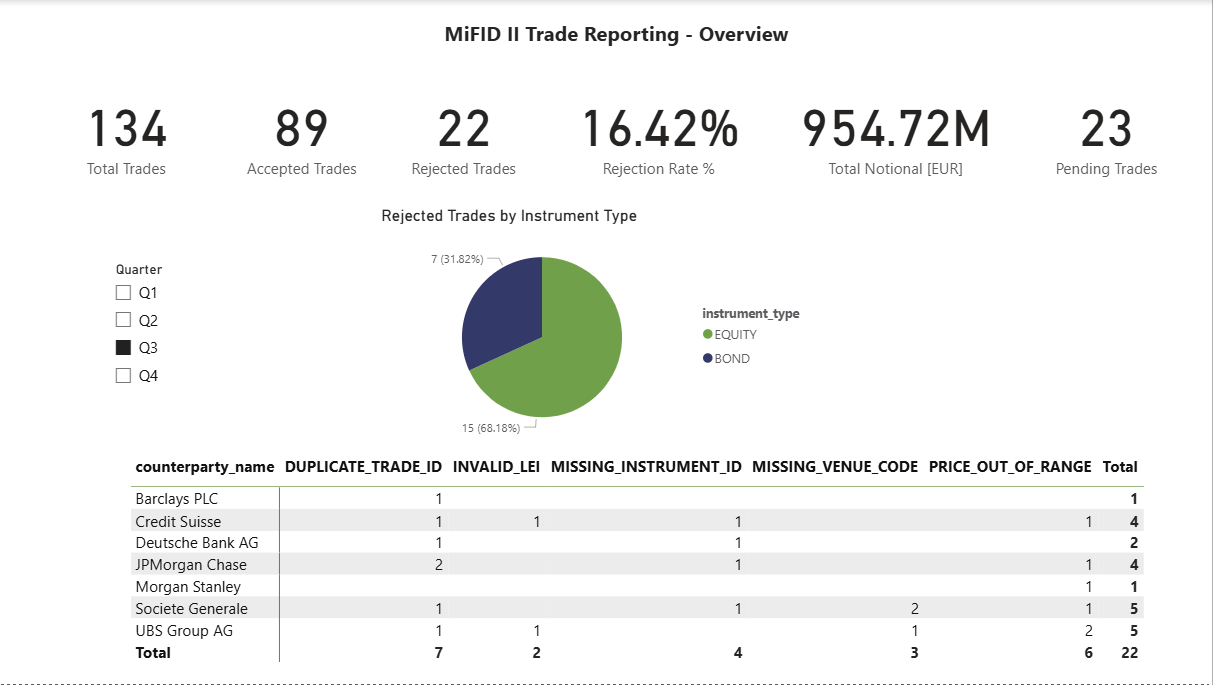

The page's visual inventory and layout, read from the dashboard file:
{"tool":"powerbi","page":{"name":"Rejection Analysis","canvas":[1280,720],"ordinal":1},"visuals":[{"type":"card","fields":{"Values":["synthetic_trades.Total Trades"]},"box":[41.1,67.9,189.5,140.5],"z":0},{"type":"card","fields":{"Values":["synthetic_trades.Accepted Trades"]},"box":[230.5,67.9,180,140.5],"z":1000},{"type":"card","fields":{"Values":["synthetic_trades.Rejected Trades"]},"box":[410.5,67.9,161.1,140.5],"z":2000},{"type":"card","fields":{"Values":["synthetic_trades.Rejection Rate %"]},"box":[571.6,67.9,249.5,140.5],"z":3000},{"type":"card","fields":{"Values":["synthetic_trades.Total Notional"]},"box":[821.1,67.9,249.5,140.5],"z":4000},{"type":"slicer","fields":{"Values":["DateTable.Quarter"]},"box":[30,260.5,118.4,150],"z":5000},{"type":"pivotTable","fields":{"Rows":["synthetic_trades.counterparty_name"],"Columns":["synthetic_trades.rejection_reason"],"Values":["synthetic_trades.Rejected Trades"]},"box":[135.8,473.7,1097.4,235.3],"z":6000},{"type":"pieChart","title":"Rejected Trades by Instrument Type","fields":{"Category":["synthetic_trades.instrument_type"],"Y":["synthetic_trades.Rejected Trades"]},"box":[399.5,216.3,465.8,257.4],"z":7000},{"type":"card","fields":{"Values":["synthetic_trades.Pending Trades"]},"box":[1070.5,67.9,194.2,140.5],"z":8000},{"type":"textbox","box":[465.8,14.2,386.8,53.7],"z":9000}]}

Visuals, with their boxes in screenshot pixels (x1, y1, x2, y2), scaled from the page's 1280x720 canvas onto the 1213x685 screenshot:
card - synthetic_trades.Total Trades: pyautogui.locateOnScreen(39, 65, 219, 198)
card - synthetic_trades.Accepted Trades: pyautogui.locateOnScreen(218, 65, 389, 198)
card - synthetic_trades.Rejected Trades: pyautogui.locateOnScreen(389, 65, 542, 198)
card - synthetic_trades.Rejection Rate %: pyautogui.locateOnScreen(542, 65, 778, 198)
card - synthetic_trades.Total Notional: pyautogui.locateOnScreen(778, 65, 1015, 198)
slicer - DateTable.Quarter: pyautogui.locateOnScreen(28, 248, 141, 391)
pivotTable - synthetic_trades.counterparty_name x synthetic_trades.rejection_reason: pyautogui.locateOnScreen(129, 451, 1169, 675)
"Rejected Trades by Instrument Type" pieChart: pyautogui.locateOnScreen(379, 206, 820, 451)
card - synthetic_trades.Pending Trades: pyautogui.locateOnScreen(1014, 65, 1199, 198)
textbox: pyautogui.locateOnScreen(441, 14, 808, 65)
